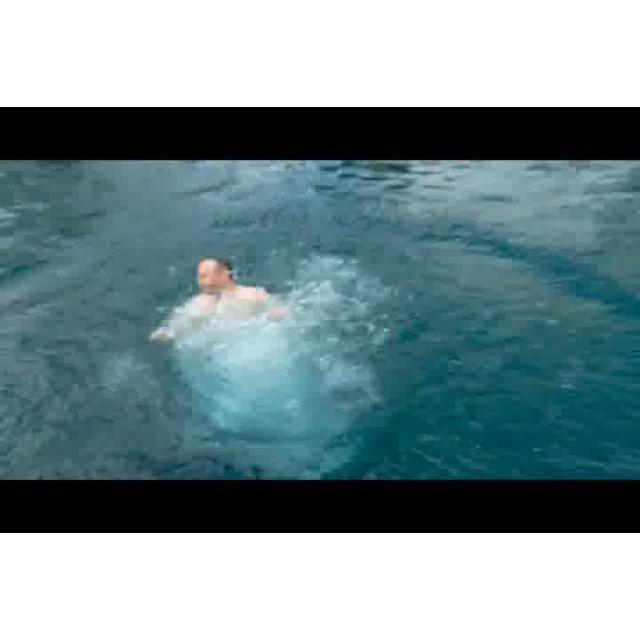human: (148, 243, 294, 348)
